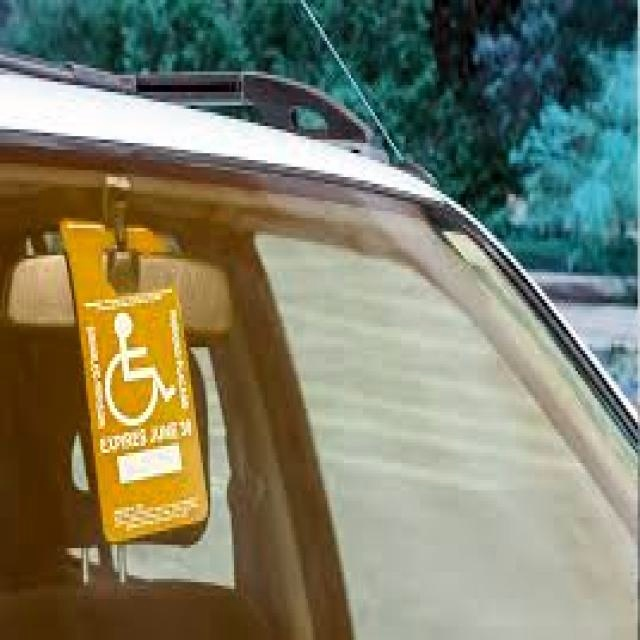ISA: (101, 312, 176, 428)
